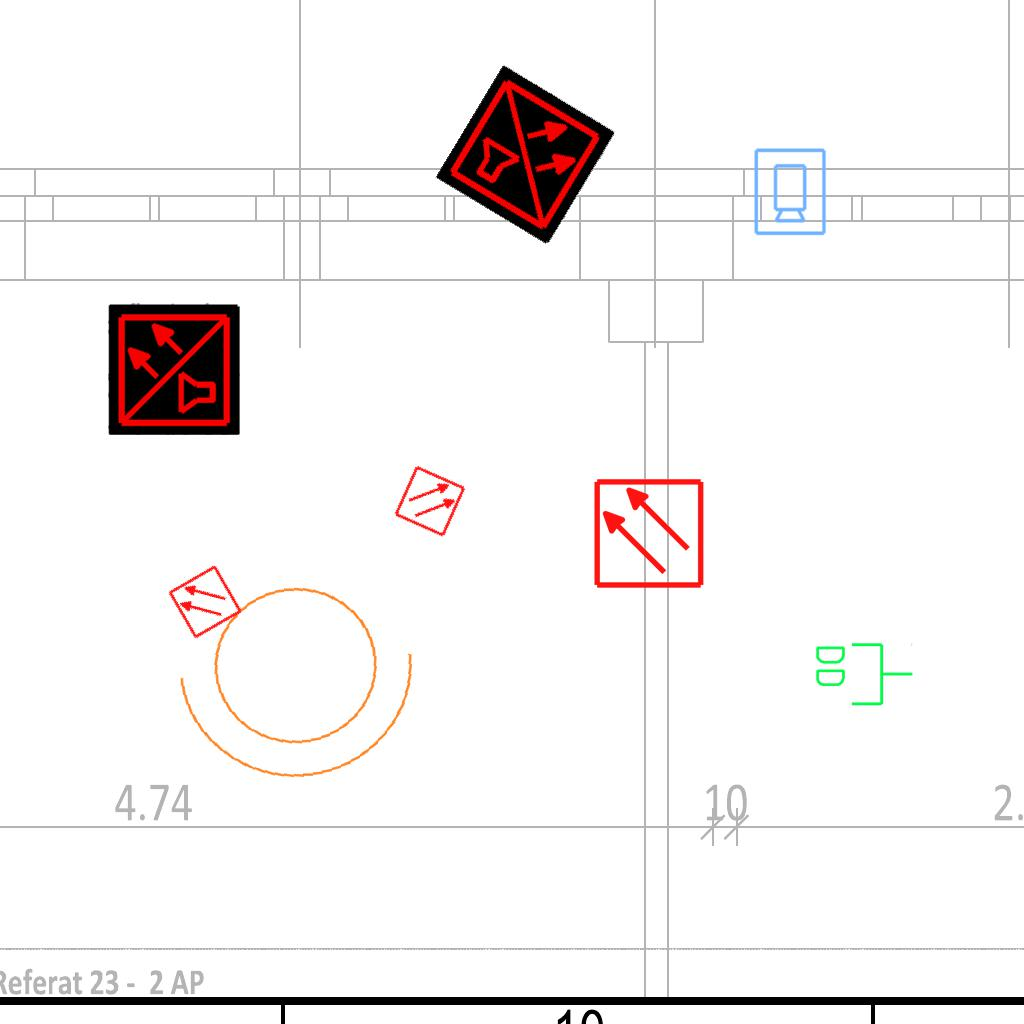Datenanschluss_zweifach: (812, 639, 915, 708)
KFO_Kamera_mit_Festobjektiv: (751, 146, 828, 237)
OKW_Multisensormelder_(Kombination_optischer_Rauch-Kahlenmonoxid_Waerme-Melder): (435, 64, 617, 246), (108, 303, 240, 435)
RMO_Rauchmelder_optischer: (592, 477, 705, 590), (166, 563, 244, 641), (393, 464, 467, 538)
Scheinwerfer_fuer_Alarmbeleuchtung: (159, 548, 447, 801)
